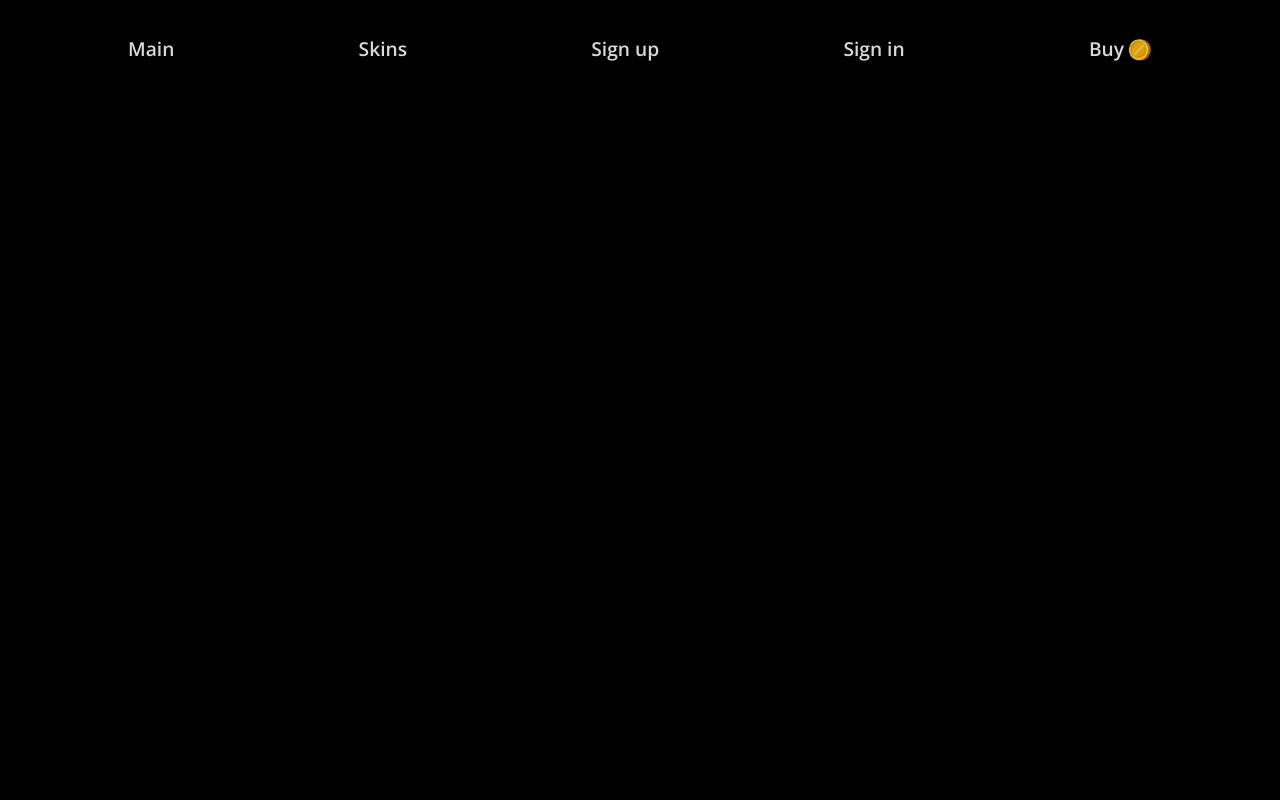
Test case: shows authRequired modal when Skins clicked without user
Click the button "Skins".
click(383, 48)  # box [359,32,407,65]
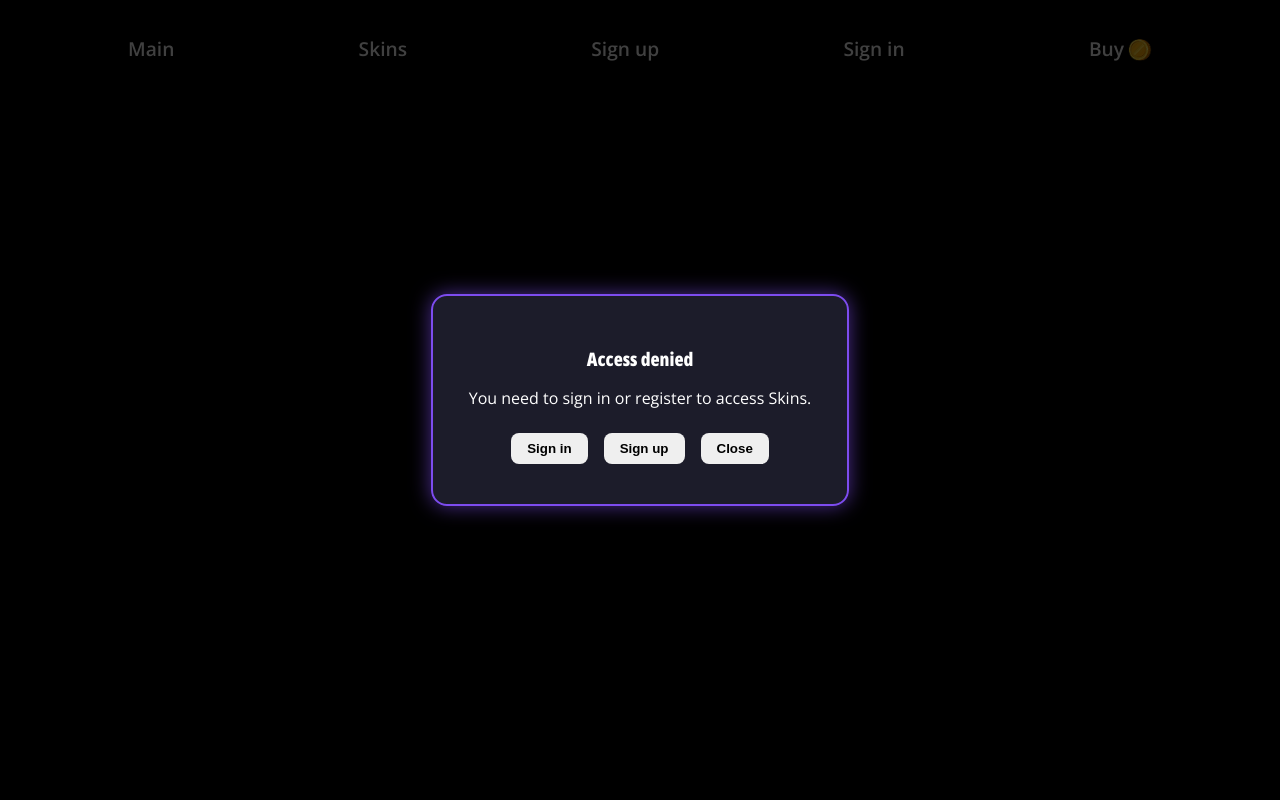
Now the heading "Access denied" is shown, box [587,346,693,371]
